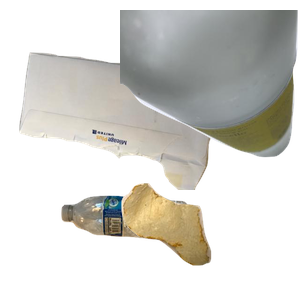glass: (120, 10, 300, 160)
paper: (17, 50, 231, 230)
plastic: (59, 193, 241, 300)
trash: (119, 181, 300, 300)
